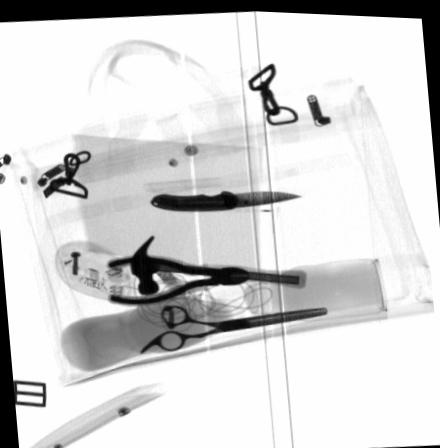Hammer: (127, 233, 307, 294)
Knife: (149, 187, 301, 211)
Pliers: (104, 252, 248, 305)
Scissors: (138, 302, 327, 353)
